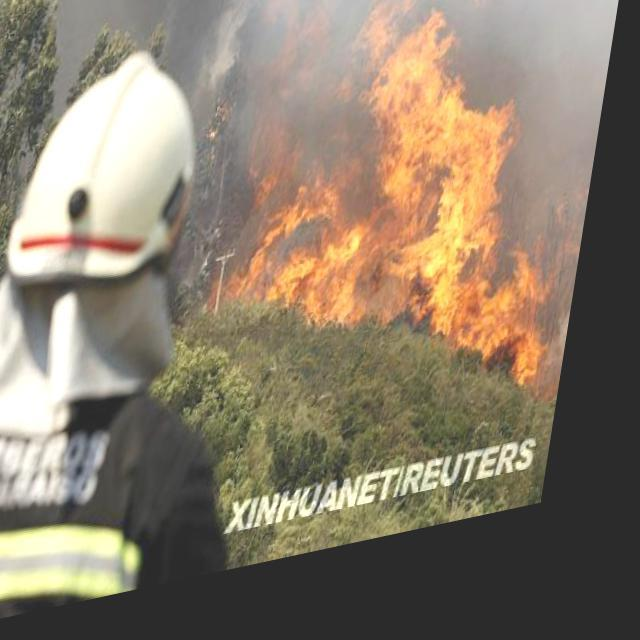Fire: (206, 0, 616, 484)
